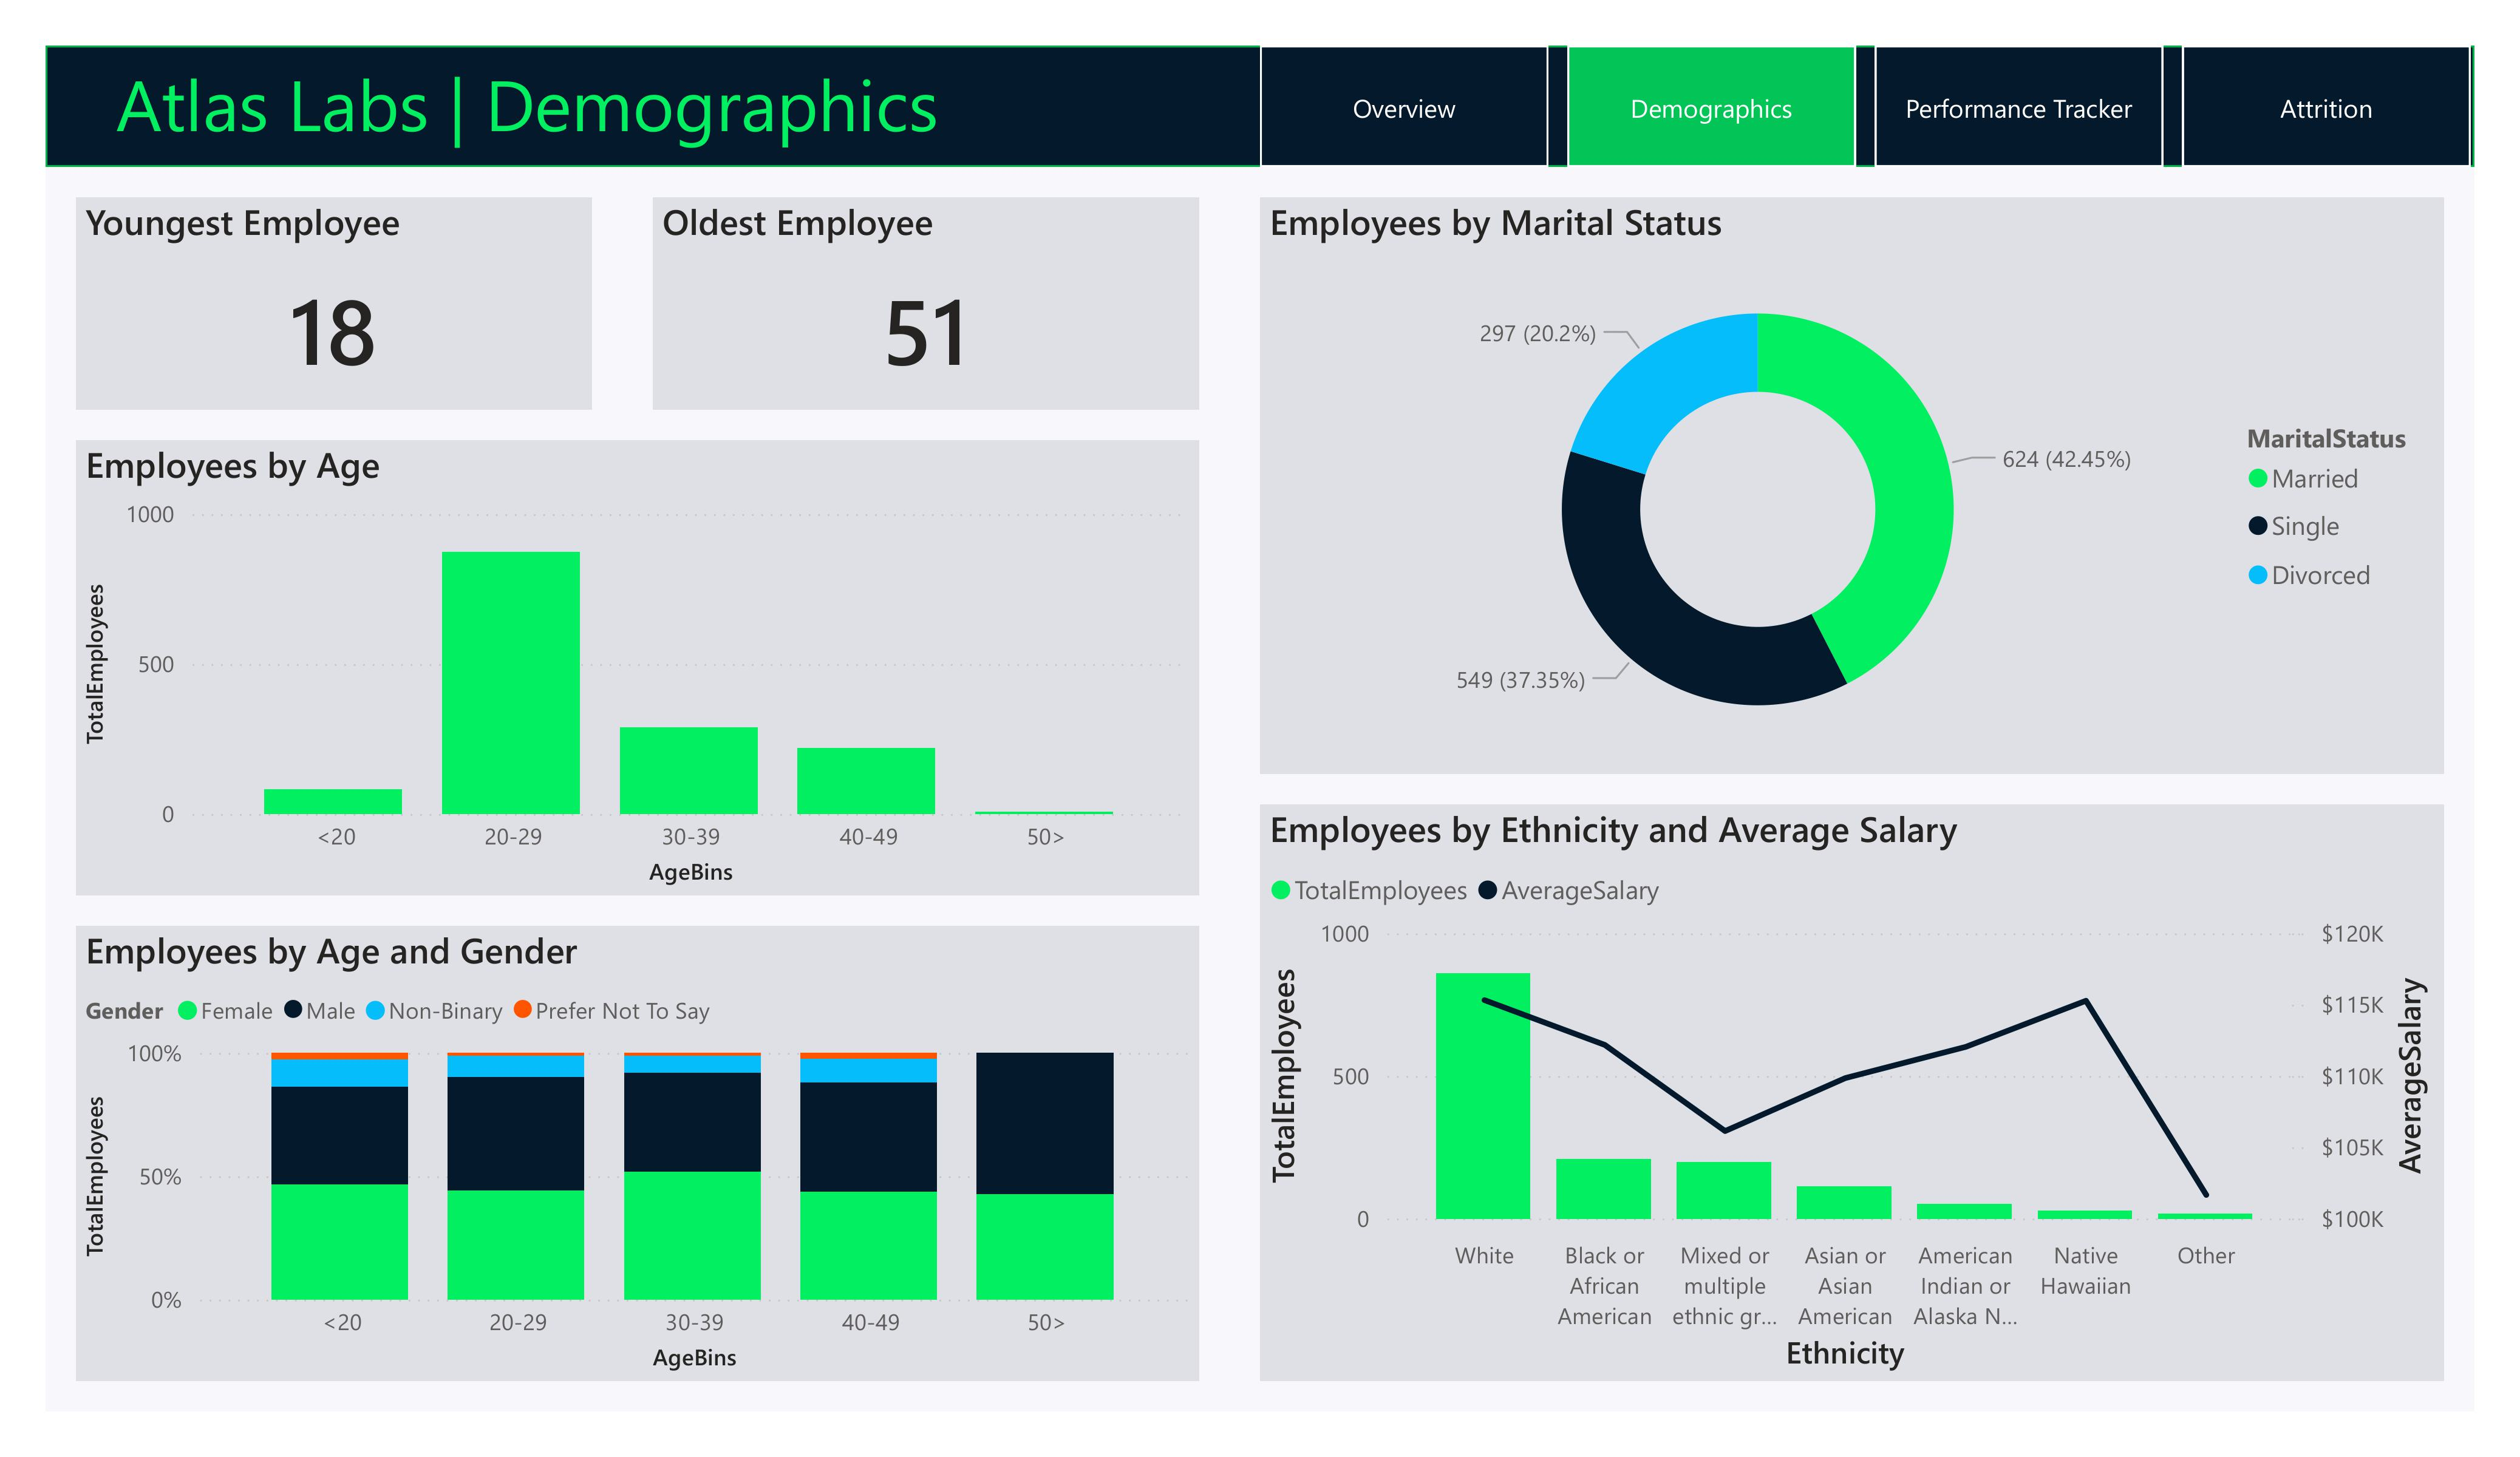

The dashboard page shown, as its layout file describes it:
{"tool":"powerbi","page":{"name":"Demographics","canvas":[1280,720],"ordinal":1},"visuals":[{"type":"card","title":"Youngest Employee","fields":{"Values":["Sum(DimEmployee.Age)"]},"box":[16,80,272,112],"z":0},{"type":"card","title":"Oldest Employee","fields":{"Values":["Sum(DimEmployee.Age)"]},"box":[320,80,288,112],"z":1000},{"type":"columnChart","title":"Employees by Age","fields":{"Category":["DimEmployee.AgeBins"],"Y":["_Measures.TotalEmployees"]},"box":[16,208,592,240],"z":2000},{"type":"hundredPercentStackedColumnChart","title":"Employees by Age and Gender","fields":{"Category":["DimEmployee.AgeBins"],"Series":["DimEmployee.Gender"],"Y":["_Measures.TotalEmployees"]},"box":[16,464,592,240],"z":3000},{"type":"donutChart","title":"Employees by Marital Status","fields":{"Category":["DimEmployee.MaritalStatus"],"Y":["_Measures.TotalEmployees"]},"box":[640,80,624,304],"z":4000},{"type":"lineStackedColumnComboChart","title":"Employees by Ethnicity and Average Salary","fields":{"Category":["DimEmployee.Ethnicity"],"Y":["_Measures.TotalEmployees"],"Y2":["_Measures.AverageSalary"]},"box":[640,400,624,304],"z":5000},{"type":"shape","box":[0,0,1280,64],"z":6000},{"type":"textbox","box":[32,0,624,64],"z":7000},{"type":"pageNavigator","box":[640,0,640,64],"z":8000}]}

Visuals, with their boxes on the page's 1280x720 design canvas (x1, y1, x2, y2). These are canvas units, not pixel positions in the 2520x1457 screenshot, which may show the page scaled, cropped or inside an application window:
"Youngest Employee" card: rect(16, 80, 288, 192)
"Oldest Employee" card: rect(320, 80, 608, 192)
"Employees by Age" columnChart: rect(16, 208, 608, 448)
"Employees by Age and Gender" hundredPercentStackedColumnChart: rect(16, 464, 608, 704)
"Employees by Marital Status" donutChart: rect(640, 80, 1264, 384)
"Employees by Ethnicity and Average Salary" lineStackedColumnComboChart: rect(640, 400, 1264, 704)
shape: rect(0, 0, 1280, 64)
textbox: rect(32, 0, 656, 64)
pageNavigator: rect(640, 0, 1280, 64)
